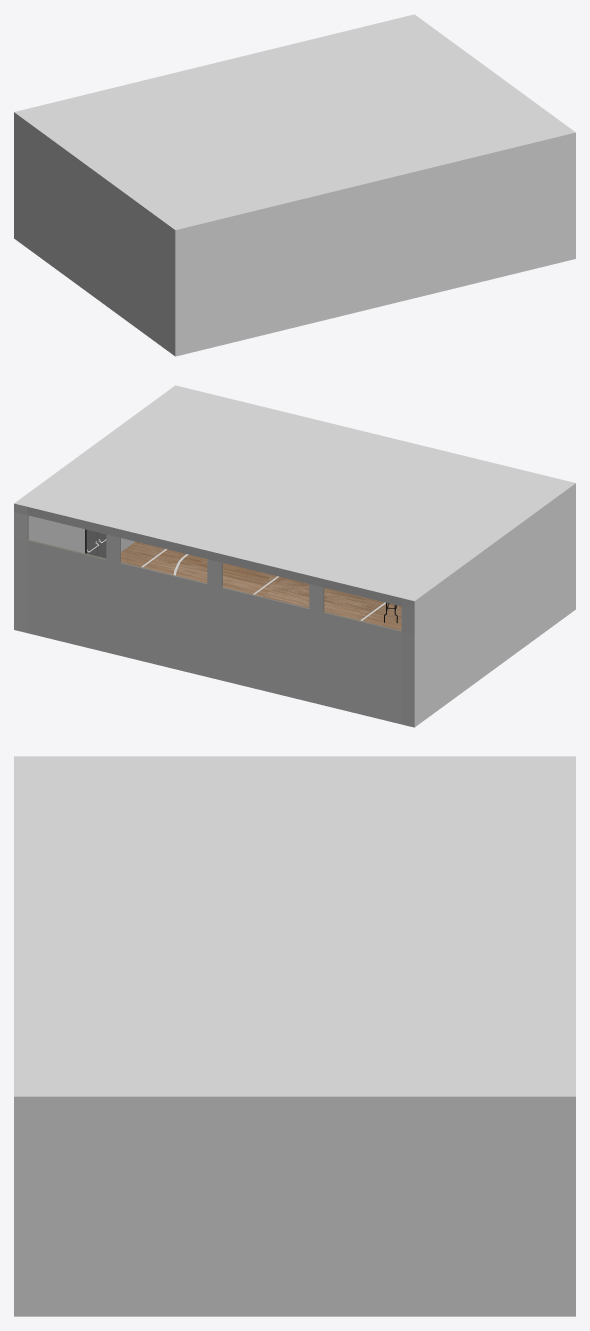
Rendered from courtV4.fbx.
3 renders of one model, top to bottom at view 1: azimuth 30°, elevation 25°; view 2: azimuth 150°, elevation 25°; view 3: azimuth 270°, elevation 25°, orthographic. The views are drawn at different scales.
Visible parts, largest first — view 1: shadowBox; view 2: shadowBox, groundGym, Walls, WallsStucco, door; view 3: shadowBox.
Boxes of the visible parts, bbox=[...] form: shadowBox: bbox=[14, 14, 575, 356]; shadowBox: bbox=[14, 385, 575, 727]; groundGym: bbox=[121, 541, 401, 630]; Walls: bbox=[28, 515, 134, 553]; WallsStucco: bbox=[27, 515, 401, 631]; door: bbox=[85, 529, 106, 558]; shadowBox: bbox=[14, 756, 575, 1316].
Bounding box in the file's own units: 1836 × 554 × 1282.
